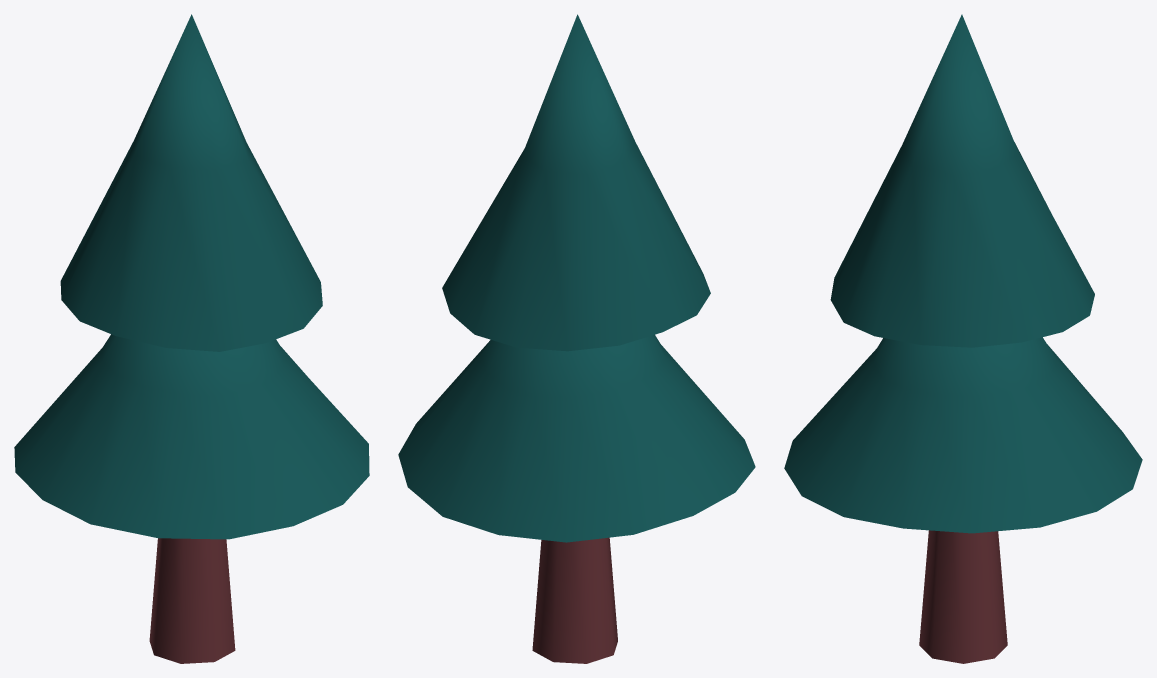
Rendered from Fir_04.fbx.
3 renders of one model, left to right at view 1: azimuth 30°, elevation 25°; view 2: azimuth 150°, elevation 25°; view 3: azimuth 270°, elevation 25°, orthographic.
Visible parts, largest first — view 1: Fir_04; view 2: Fir_04; view 3: Fir_04.
Boxes of the visible parts, <box> form: Fir_04: <box>14,14,369,663</box>; Fir_04: <box>398,14,755,663</box>; Fir_04: <box>784,14,1142,663</box>.
Bounding box in the file's own units: 187 × 365 × 188.
